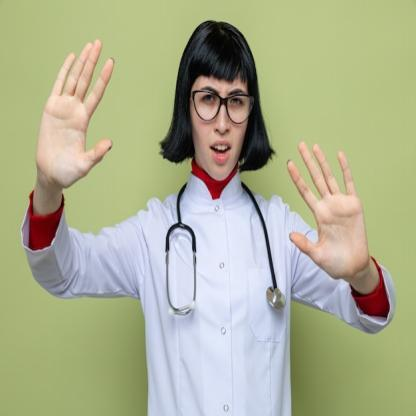stop: (283, 137, 375, 288), (32, 37, 120, 194)
